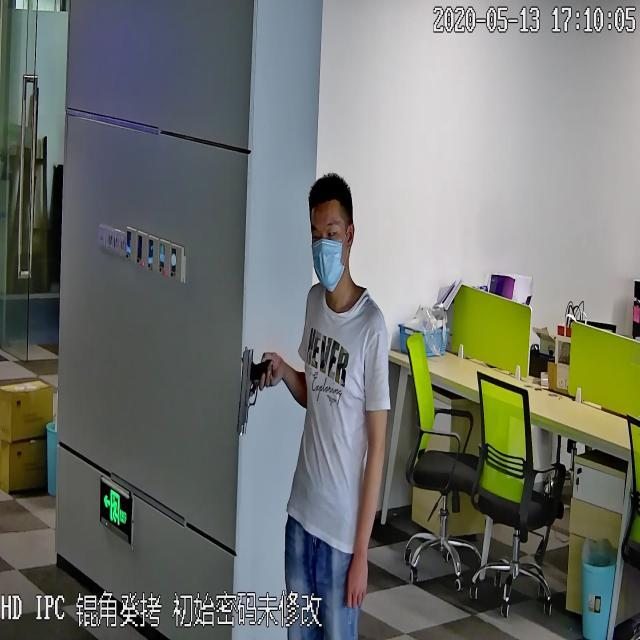gun: (235, 344, 273, 440)
